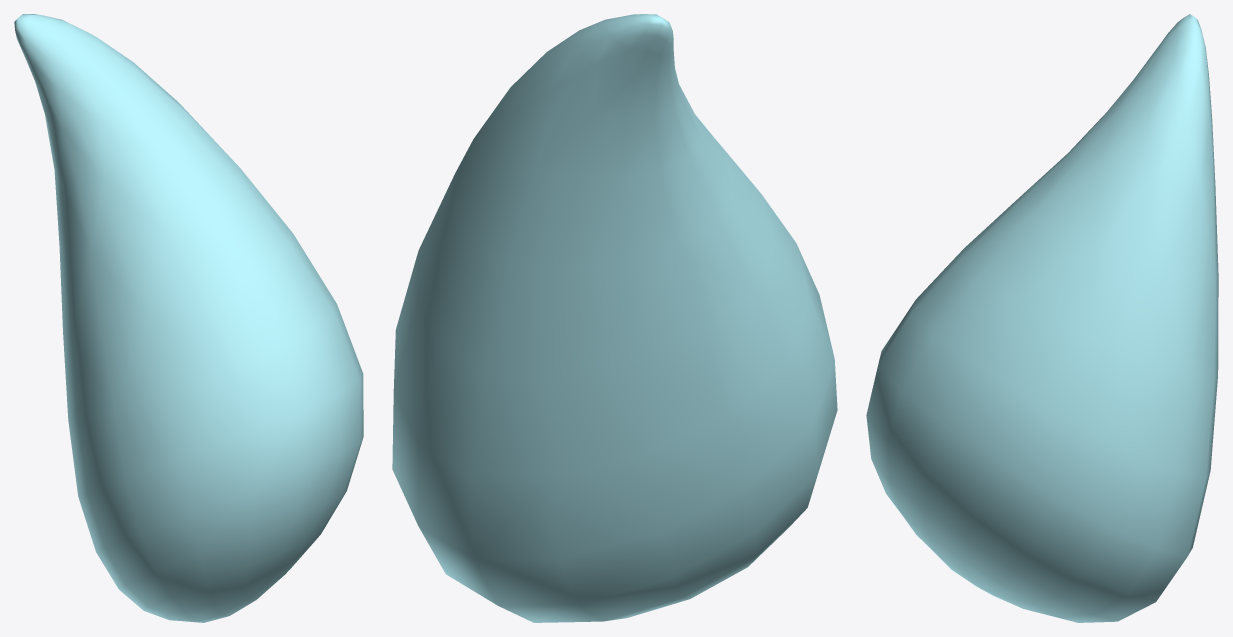
Rendered from tear.glb.
3 renders of one model, left to right at view 1: azimuth 30°, elevation 25°; view 2: azimuth 150°, elevation 25°; view 3: azimuth 270°, elevation 25°, orthographic. The views are drawn at different scales.
Parts seen in each view (by area): view 1: Tear_226.Shape.002; view 2: Tear_226.Shape.002; view 3: Tear_226.Shape.002.
Boxes of the visible parts, x1,y1,x2,y2 form: Tear_226.Shape.002: (14,14,363,622); Tear_226.Shape.002: (392,14,837,622); Tear_226.Shape.002: (866,14,1218,622).
Size of the model in its own units: 0.6764 by 1.26 by 0.7394.
